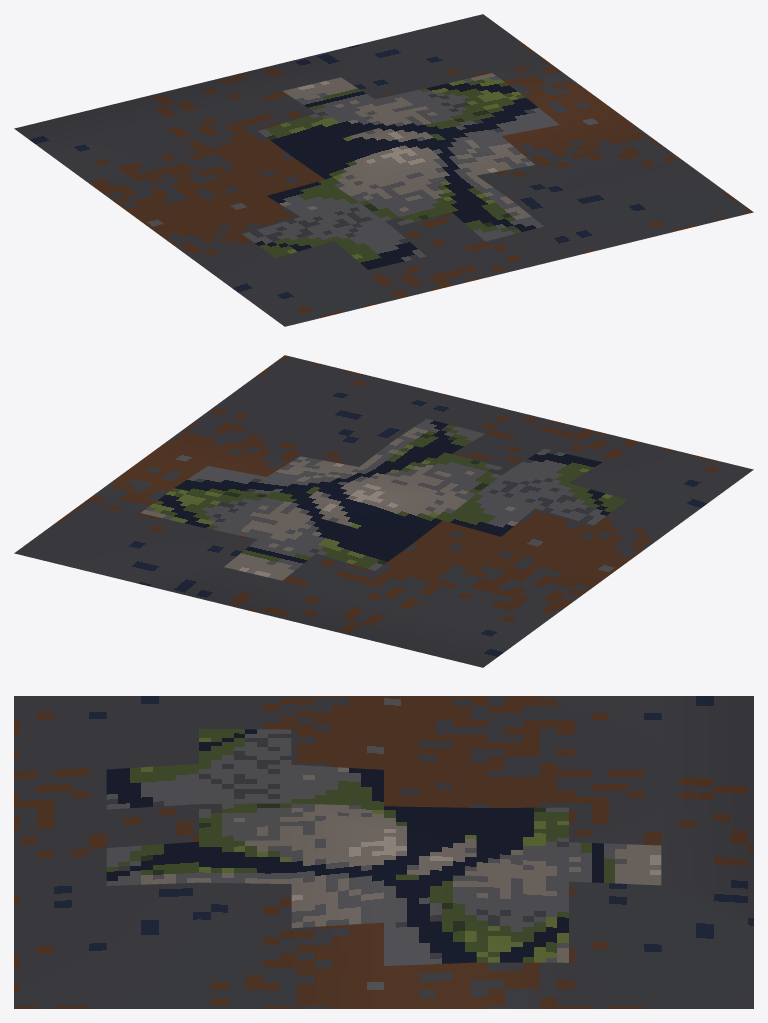
File: cave.floor__puddle.glb
The picture shows the model from 3 angles, top to bottom: view 1: azimuth 30°, elevation 25°; view 2: azimuth 150°, elevation 25°; view 3: azimuth 270°, elevation 25°; orthographic projection. The views are drawn at different scales.
Parts seen in each view (by area): view 1: kit_shell_floor; view 2: kit_shell_floor; view 3: kit_shell_floor.
Part boxes in pixels (<box>): kit_shell_floor: <box>14,14,753,326</box>; kit_shell_floor: <box>14,355,753,667</box>; kit_shell_floor: <box>14,696,753,1008</box>.
Size of the model in its own units: 4 by 0.133 by 4.
Materials: 3 (3 with a texture image).
